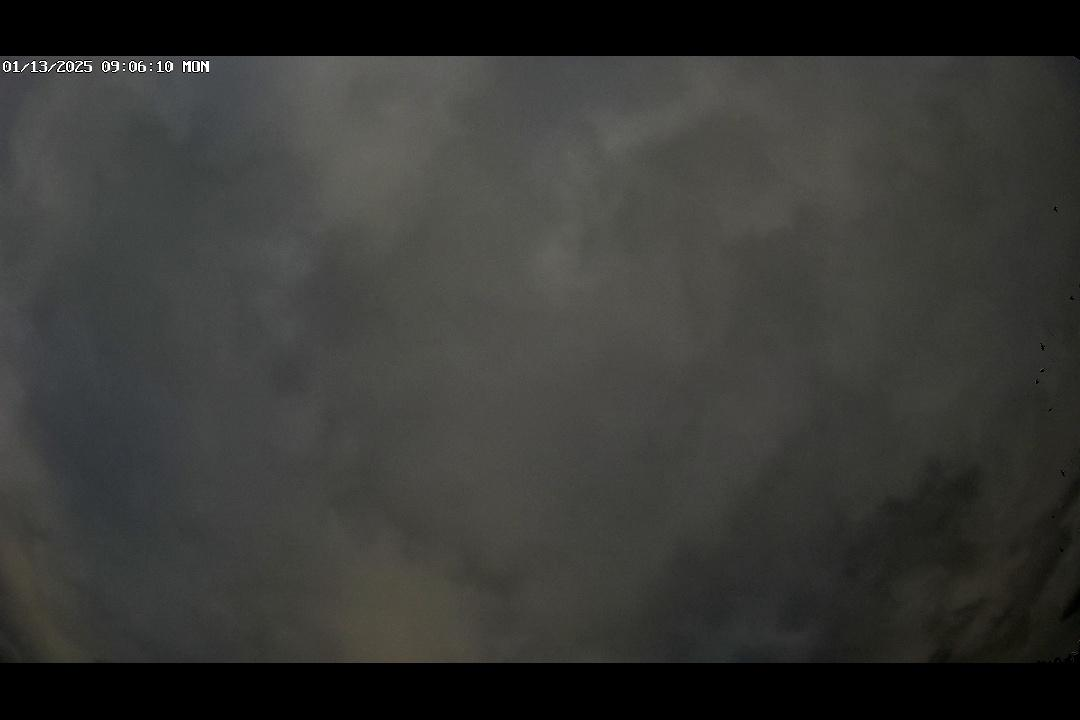WildLife: (1046, 501, 1068, 520), (1057, 463, 1068, 481), (1056, 541, 1067, 554), (1050, 203, 1061, 215), (1037, 341, 1047, 353), (1065, 532, 1076, 542), (1037, 365, 1049, 374), (1044, 405, 1054, 415), (1067, 293, 1076, 303), (1032, 377, 1041, 386), (1078, 282, 1080, 291)
